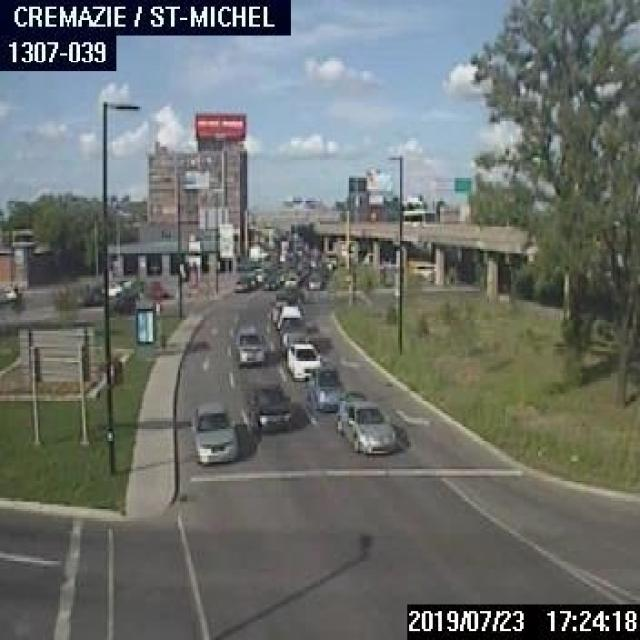bus: (401, 208, 434, 225)
vehicle: (334, 396, 395, 454), (187, 400, 238, 462), (242, 378, 291, 433), (304, 364, 346, 410), (231, 322, 264, 364), (284, 341, 321, 378), (277, 318, 309, 354), (276, 304, 300, 332), (100, 280, 122, 296), (232, 272, 249, 291), (0, 284, 15, 304), (260, 275, 275, 289), (283, 273, 298, 287), (306, 275, 318, 289)
